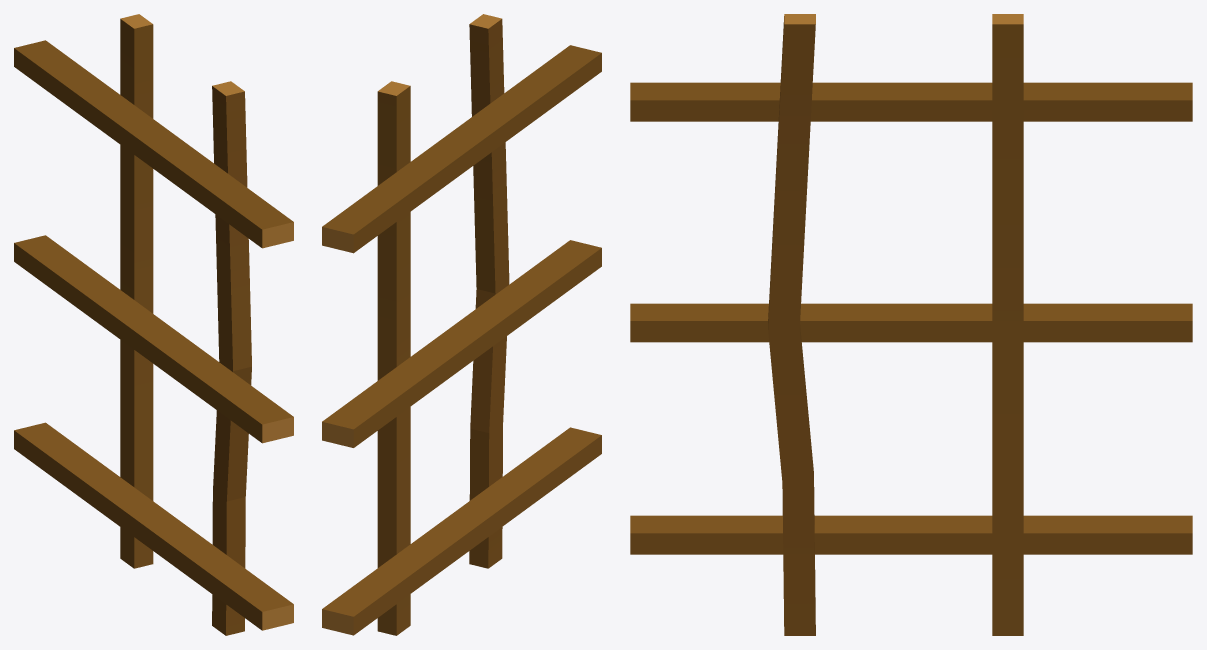
The model's file is WoodFrame_2_2.fbx.
3 renders of one model, left to right at view 1: azimuth 30°, elevation 25°; view 2: azimuth 150°, elevation 25°; view 3: azimuth 270°, elevation 25°, orthographic. The views are drawn at different scales.
Visible parts, largest first — view 1: WoodFrame_2_2; view 2: WoodFrame_2_2; view 3: WoodFrame_2_2.
Part boxes in pixels (box(x1,y1,x2,y2)): WoodFrame_2_2: box(14, 14, 293, 635); WoodFrame_2_2: box(322, 14, 601, 635); WoodFrame_2_2: box(630, 14, 1192, 635).
Bounding box in the file's own units: 23.57 × 240 × 200.
